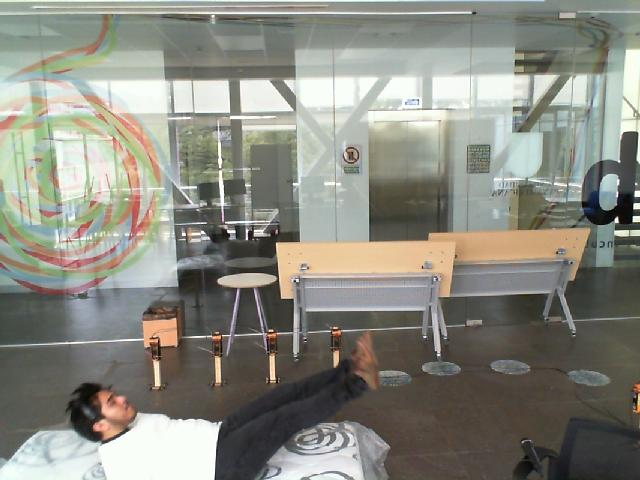fallen: (59, 373, 385, 480)
